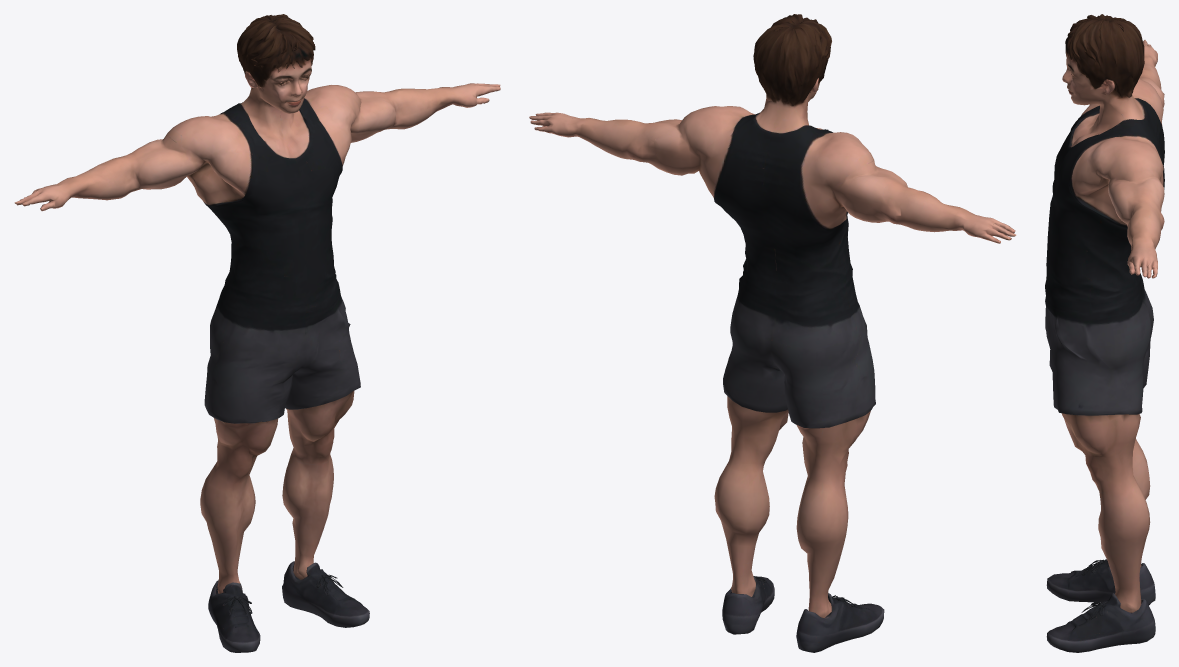
The model's file is kachok.obj.
The picture shows the model from 3 angles, left to right: view 1: azimuth 30°, elevation 25°; view 2: azimuth 150°, elevation 25°; view 3: azimuth 270°, elevation 25°; orthographic projection.
Visible parts, largest first — view 1: mesh_0; view 2: mesh_0; view 3: mesh_0.
Part boxes in pixels (x1=…): mesh_0: x1=14, y1=14, x2=500, y2=652; mesh_0: x1=529, y1=14, x2=1016, y2=652; mesh_0: x1=1045, y1=14, x2=1164, y2=652.
Bounding box in the file's own units: 799 × 951 × 171.
1 material, 1 textured.
